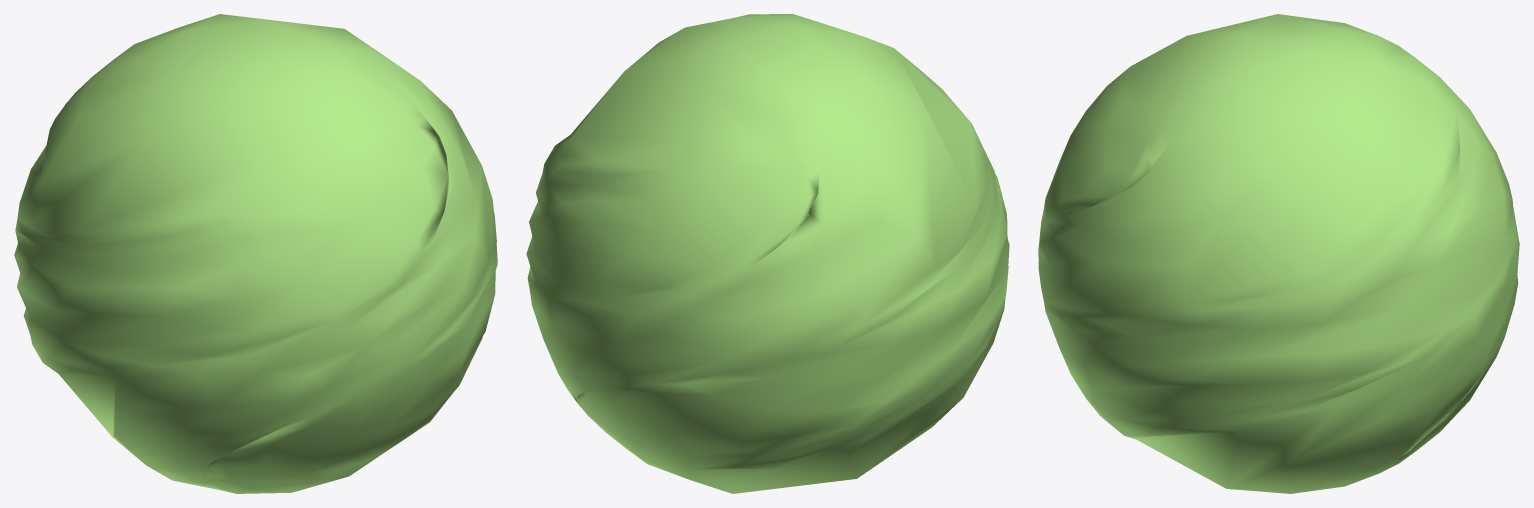
Rendered from p_stickybubble_slimesphere02.fbx.
The picture shows the model from 3 angles, left to right: view 1: azimuth 30°, elevation 25°; view 2: azimuth 150°, elevation 25°; view 3: azimuth 270°, elevation 25°; orthographic projection.
Visible parts, largest first — view 1: Icosphere.007; view 2: Icosphere.007; view 3: Icosphere.007.
Boxes of the visible parts, x1,y1,x2,y2 form: Icosphere.007: (14,14,497,493); Icosphere.007: (526,14,1009,493); Icosphere.007: (1038,14,1519,493).
Size of the model in its own units: 8.92 by 8.83 by 8.94.
